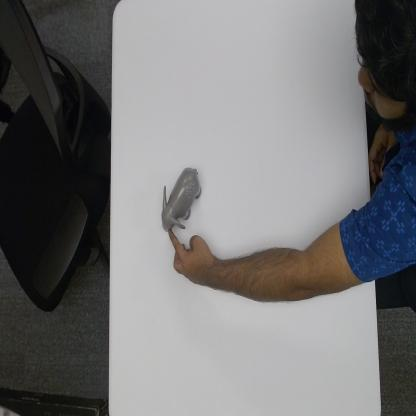Arm: (221, 206, 374, 305)
Elephant: (160, 165, 202, 234)
Hand: (169, 229, 219, 289)
